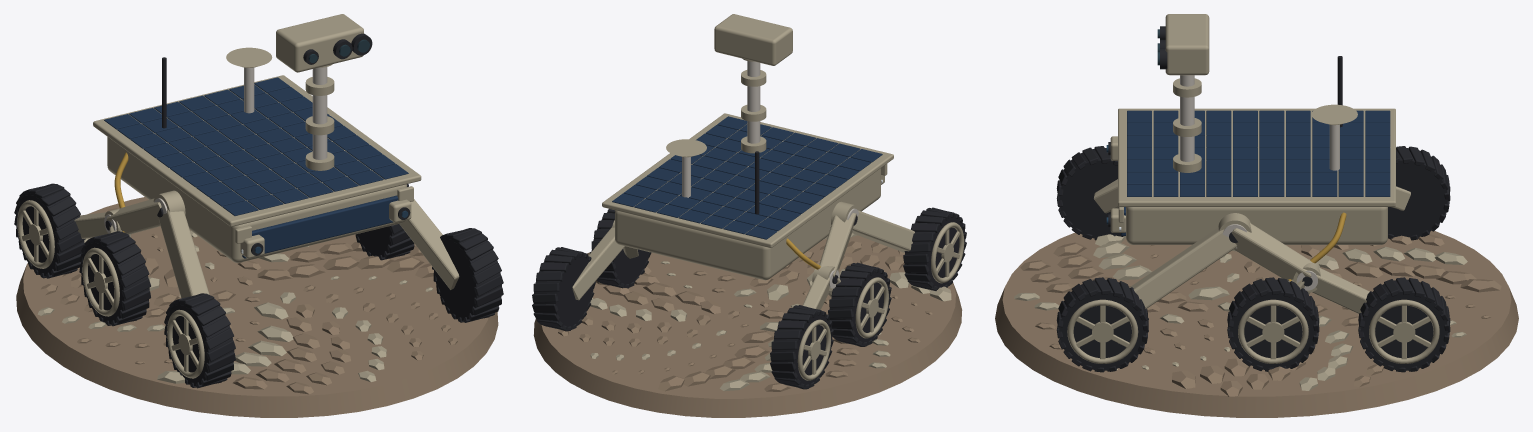
File: robots-18.glb
The picture shows the model from 3 angles, left to right: view 1: azimuth 30°, elevation 25°; view 2: azimuth 150°, elevation 25°; view 3: azimuth 270°, elevation 25°; orthographic projection. The views are drawn at different scales.
Visible parts, largest first — view 1: terrain, solar, tires, body, rockers, hubs, head, mast, dish, nose-cameras, bogies, optics; view 2: terrain, solar, tires, body, hubs, head, rockers, bogies, mast, dish; view 3: terrain, solar, tires, body, hubs, rockers, head, bogies, mast, dish, nose-cameras.
Part boxes in pixels (x1,y1,x2,y2): terrain: (16, 197, 498, 417); solar: (93, 75, 421, 226); tires: (14, 183, 503, 388); body: (107, 137, 413, 262); rockers: (106, 190, 459, 298); hubs: (17, 200, 204, 378); head: (276, 14, 363, 72); mast: (305, 64, 334, 170); dish: (226, 47, 272, 113); nose-cameras: (240, 199, 411, 258); bogies: (74, 208, 131, 238); optics: (303, 33, 372, 64); terrain: (533, 233, 962, 417); solar: (602, 113, 893, 247); tires: (532, 207, 966, 389); body: (615, 164, 887, 280); hubs: (797, 222, 964, 380); head: (714, 14, 792, 65); rockers: (818, 201, 914, 277); bogies: (572, 220, 840, 309); mast: (741, 58, 766, 153); dish: (666, 139, 706, 197); terrain: (995, 230, 1518, 417); solar: (1118, 108, 1395, 206); tires: (1056, 146, 1450, 372); body: (1118, 207, 1387, 244); hubs: (1067, 299, 1439, 363); rockers: (1094, 179, 1316, 308); head: (1165, 14, 1209, 75); bogies: (1288, 186, 1410, 313); mast: (1173, 75, 1201, 172); dish: (1311, 104, 1357, 171); nose-cameras: (1106, 136, 1125, 232).
Bounding box in the file's own units: 3.45 × 2.45 × 3.84.
